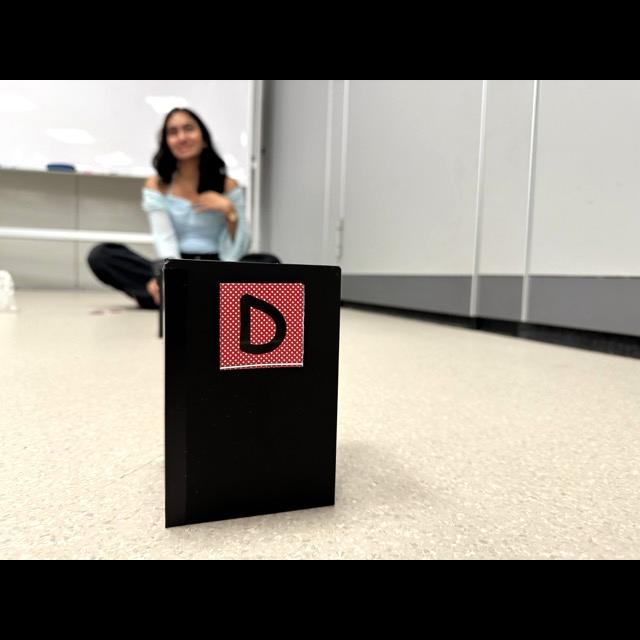D: (240, 293, 286, 354)
